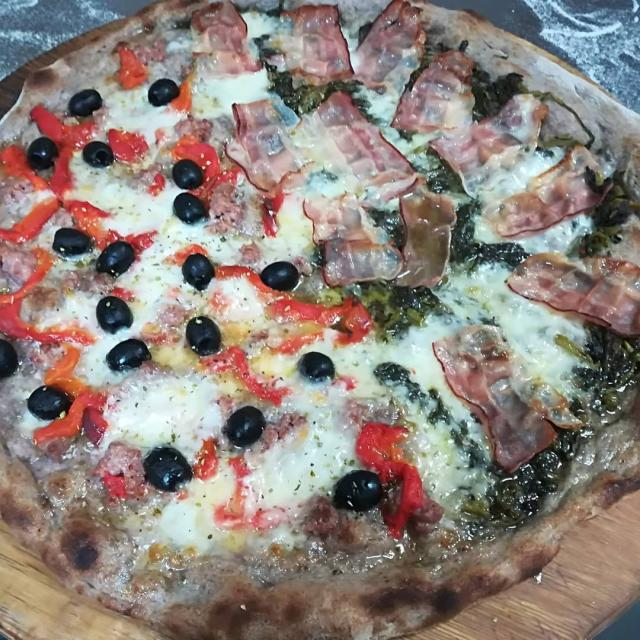black_olives: (332, 465, 380, 516), (142, 442, 191, 491), (223, 404, 268, 453), (102, 336, 155, 376), (22, 378, 72, 419), (52, 224, 98, 266), (176, 315, 222, 356), (99, 236, 138, 282), (26, 137, 64, 184), (258, 256, 300, 293), (95, 293, 134, 332), (181, 253, 216, 290), (66, 84, 104, 117), (300, 351, 338, 383), (168, 194, 205, 226), (170, 155, 203, 190), (143, 77, 178, 107), (81, 138, 114, 168), (1, 332, 17, 386)
peppers: (361, 422, 427, 539), (184, 241, 286, 300), (70, 192, 159, 255), (48, 351, 107, 444), (0, 248, 55, 343), (30, 99, 92, 181), (204, 344, 279, 400), (224, 457, 276, 535), (266, 299, 364, 339), (5, 143, 58, 197), (6, 195, 49, 244), (110, 40, 145, 84), (108, 127, 143, 161), (258, 184, 283, 231), (108, 473, 128, 498)
pizza: (0, 0, 640, 640)
